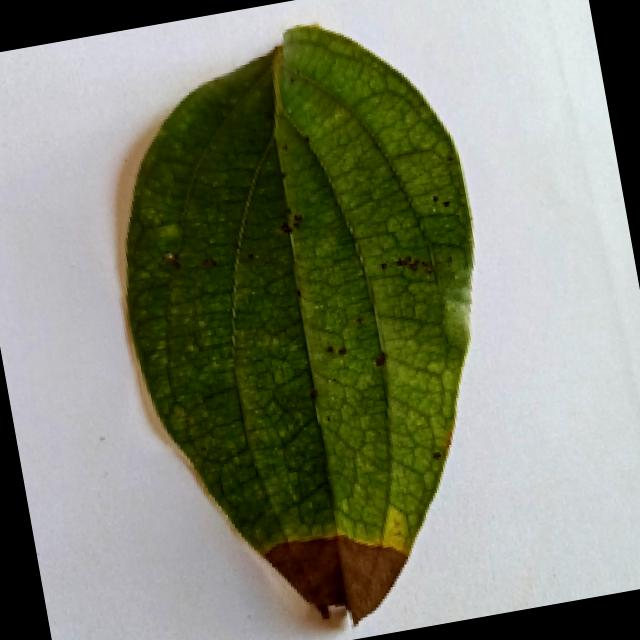footrot: (46, 5, 567, 640)
